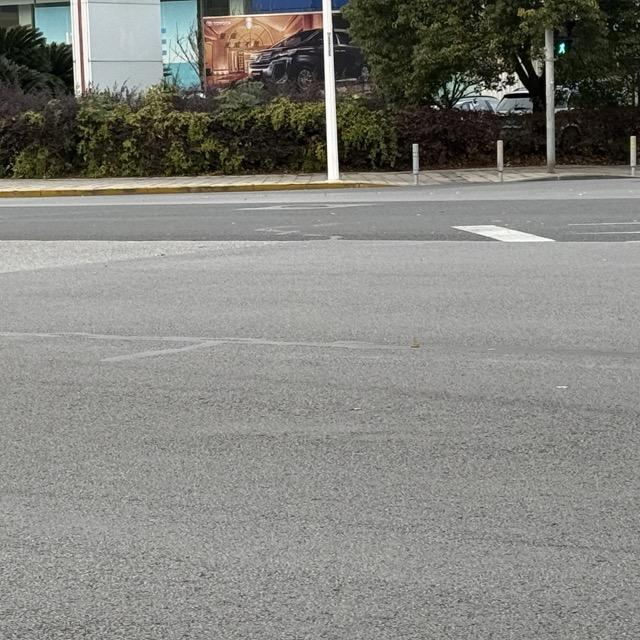curb: (0, 180, 401, 198), (505, 175, 639, 181)
